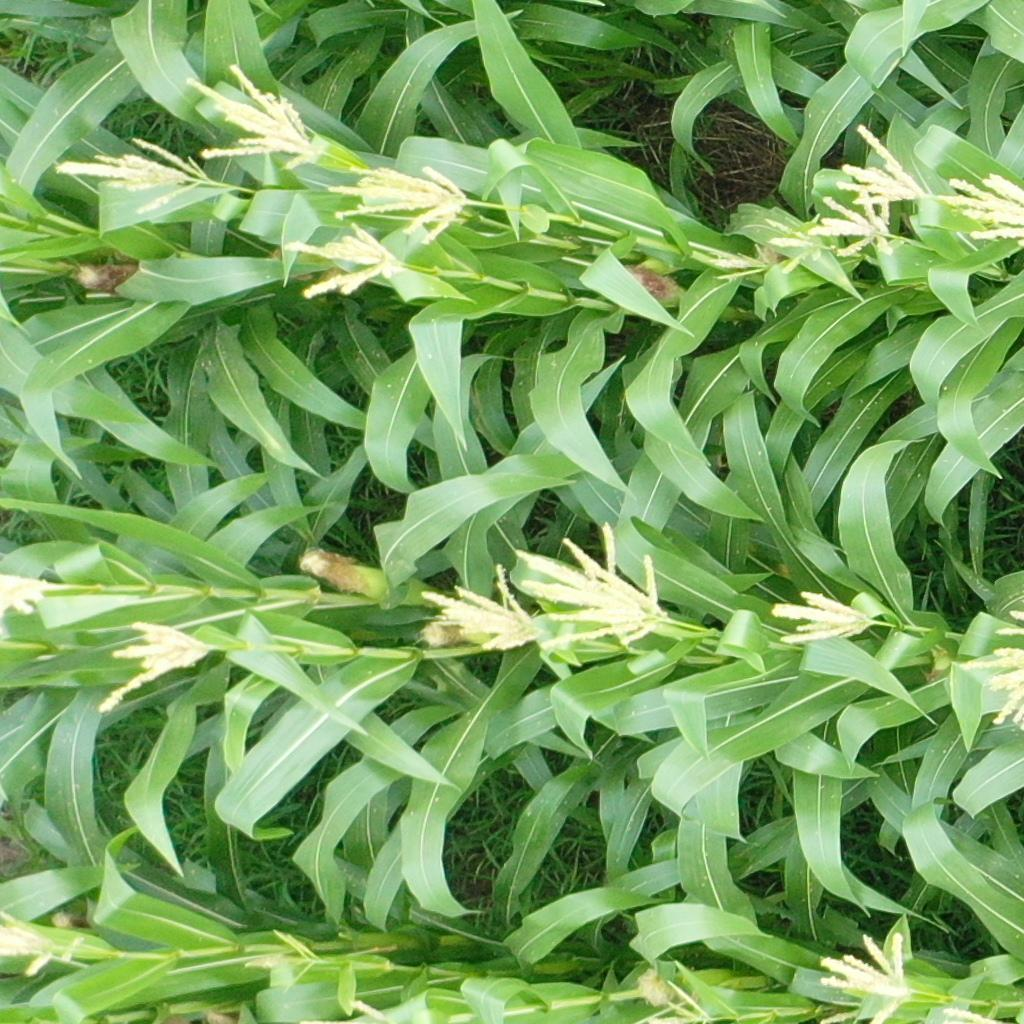Tassel: (515, 525, 669, 651), (186, 62, 321, 164), (54, 137, 208, 216), (412, 562, 540, 656), (325, 162, 469, 245), (94, 620, 214, 715), (280, 223, 405, 299), (818, 928, 907, 1024), (834, 122, 931, 207), (960, 607, 1024, 729), (932, 170, 1024, 247), (1, 907, 84, 976), (811, 191, 899, 256), (770, 590, 881, 640), (244, 931, 319, 988), (646, 980, 717, 1024), (765, 219, 820, 274), (1, 570, 56, 623), (711, 241, 767, 282), (299, 999, 390, 1024), (944, 1004, 1010, 1024)
